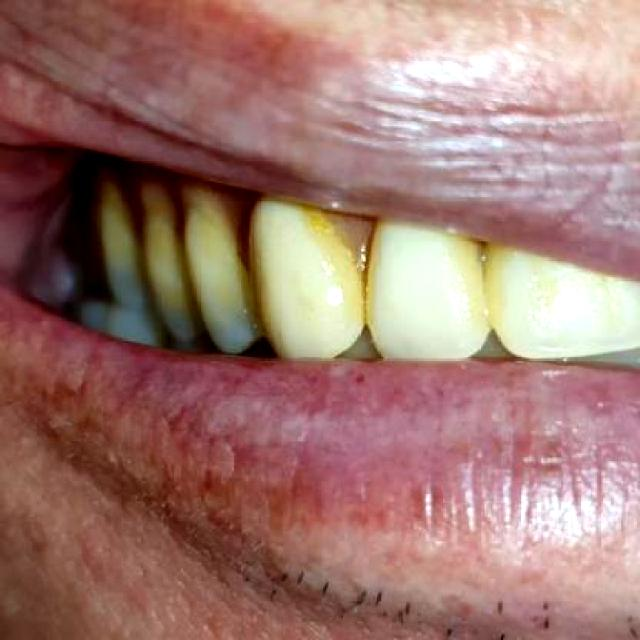Plaque: (330, 221, 369, 280)
